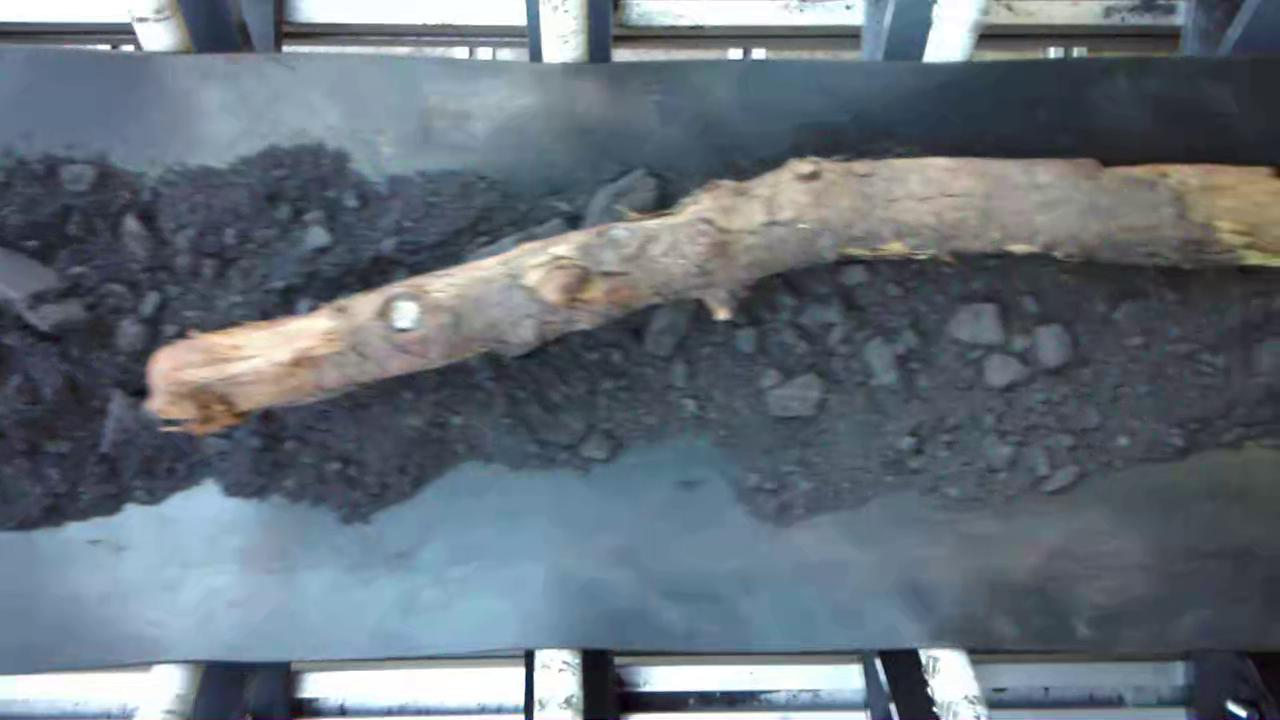conveyor: (0, 64, 1280, 645)
